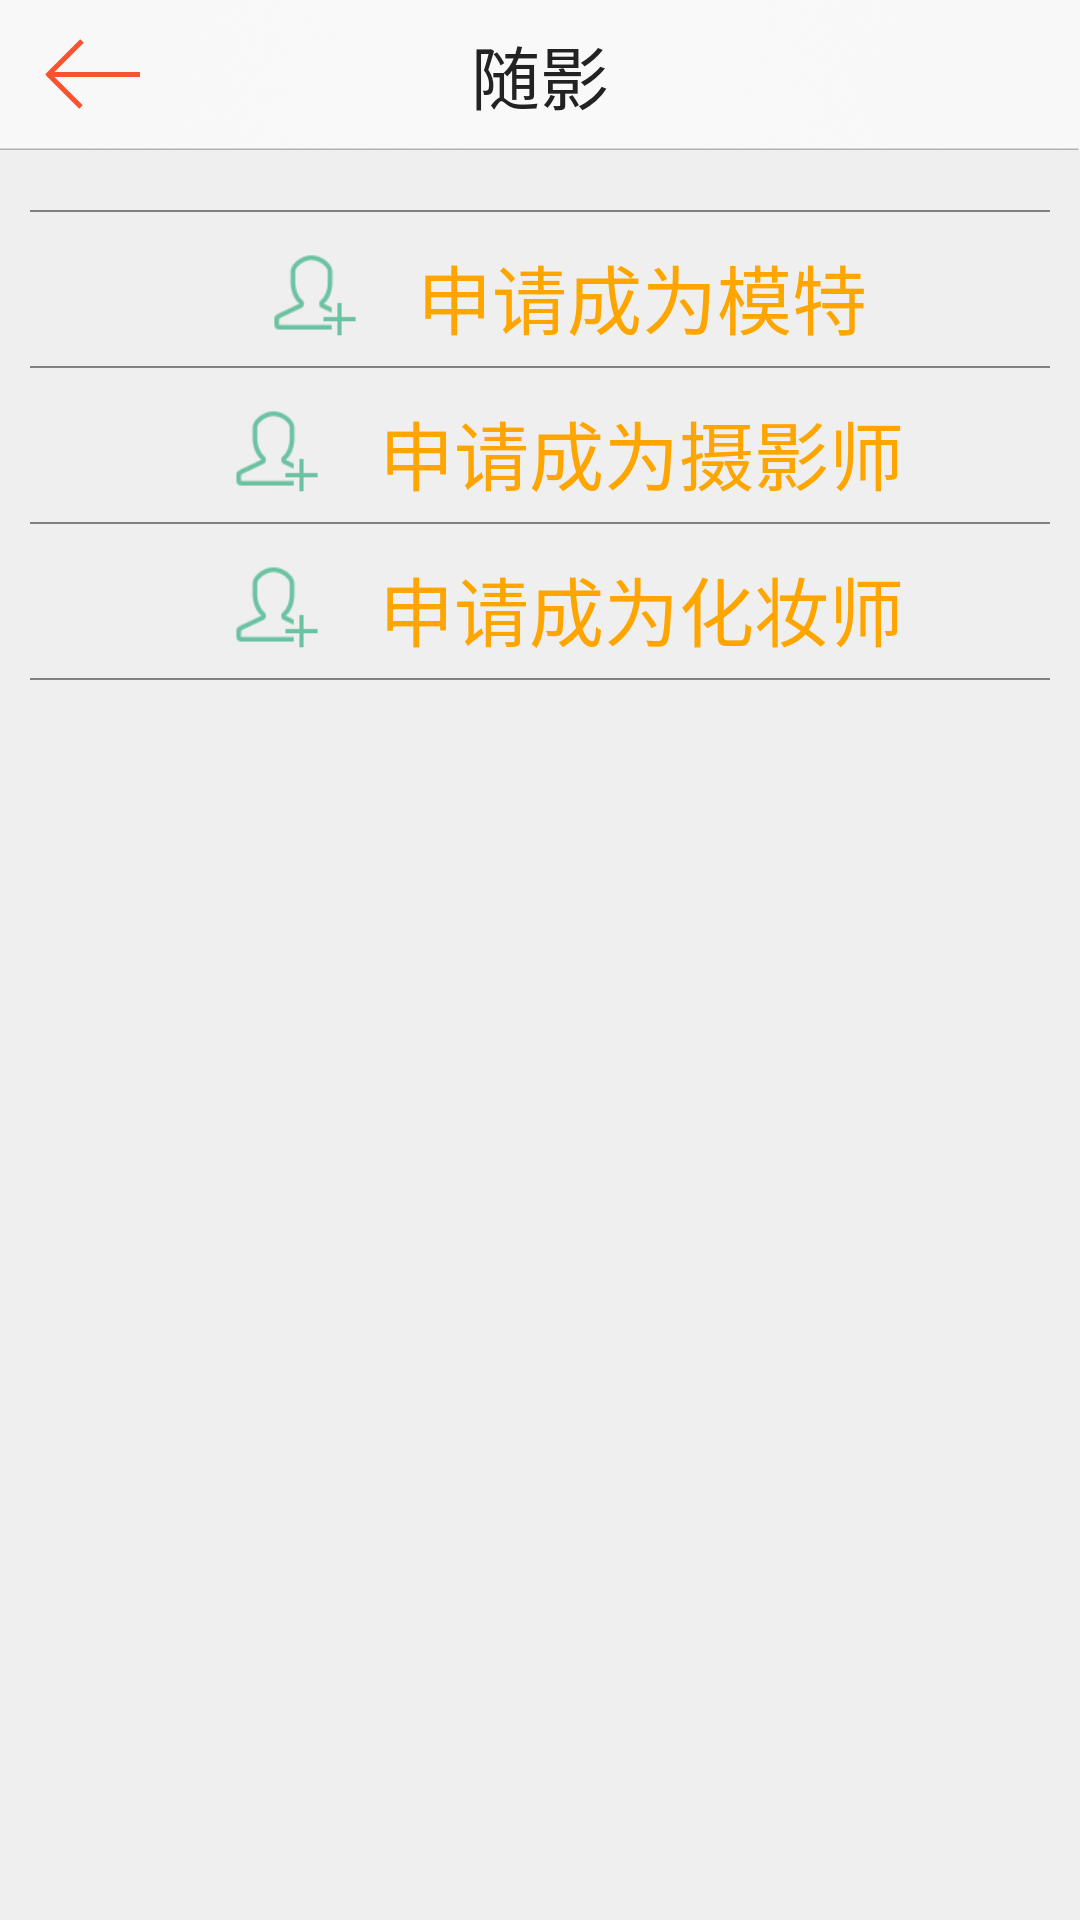

Where icons sit on this 1080w x 1920h app screen, as (x1, y1, x2, y2):
invite: (274, 255, 356, 336), (236, 411, 318, 492), (236, 567, 318, 648)
